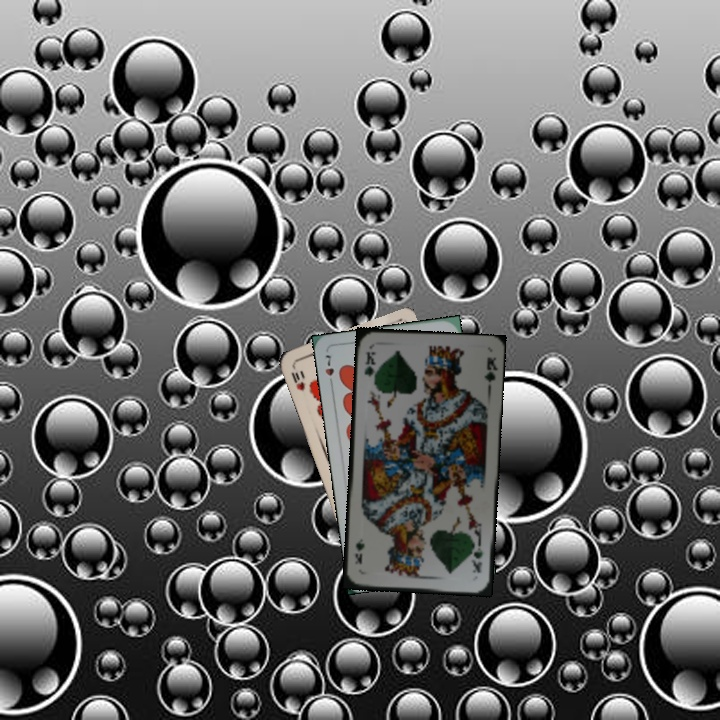GK: (360, 348, 378, 385), (469, 538, 485, 575)
H10: (287, 362, 308, 393)
H7: (321, 351, 337, 390)
